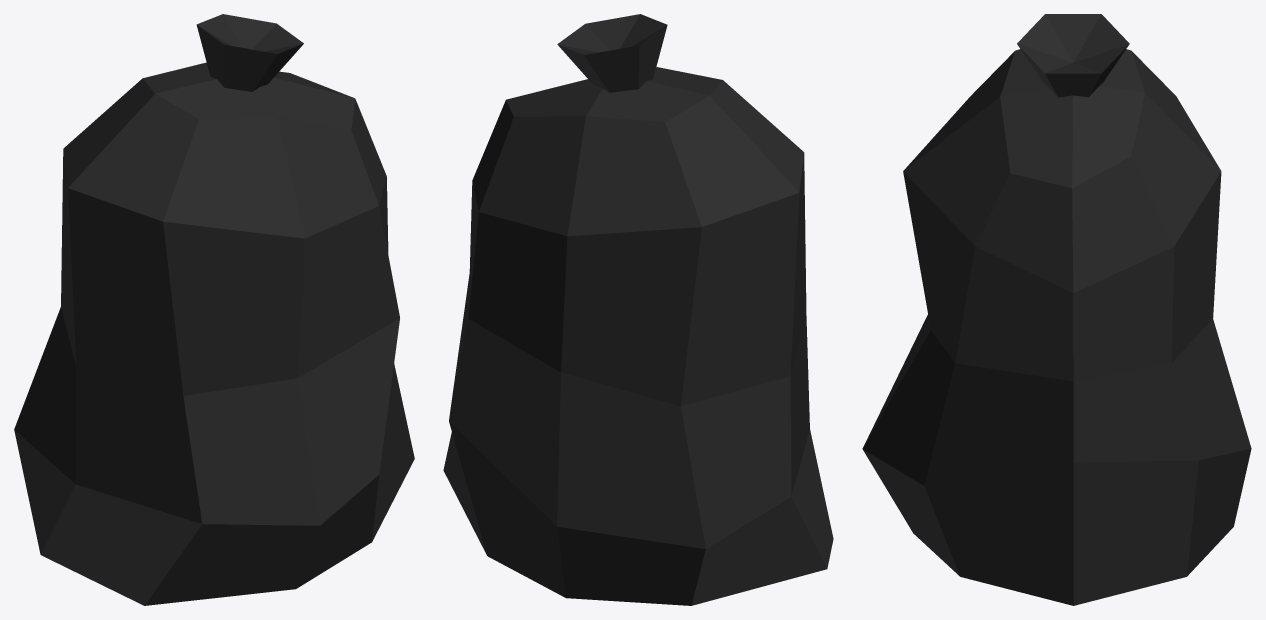
The model's file is garbage-bag.glb.
3 renders of one model, left to right at view 1: azimuth 30°, elevation 25°; view 2: azimuth 150°, elevation 25°; view 3: azimuth 270°, elevation 25°, orthographic. The views are drawn at different scales.
Visible parts, largest first — view 1: garbage-bag; view 2: garbage-bag; view 3: garbage-bag.
Part boxes in pixels (x1,y1,x2,y2): garbage-bag: [14, 14, 414, 605]; garbage-bag: [443, 14, 833, 605]; garbage-bag: [862, 14, 1251, 605].
Bounding box in the file's own units: 0.47 × 0.6022 × 0.4105.
Materials: 1 (1 with a texture image).
